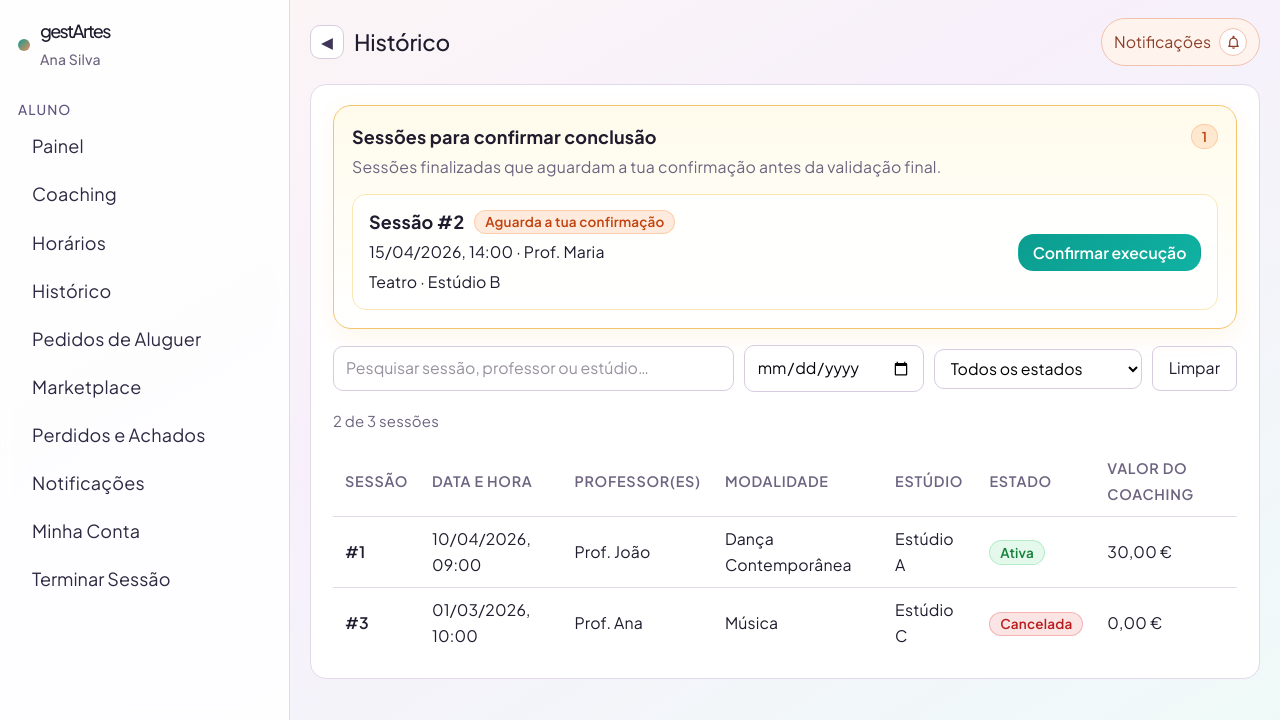
Test case: MyHistoryPage › opens session detail modal on row click
expect the table with test id "history-table" is shown: met, box [333,446,1237,658]
Click the row with test id "history-row-1" at (785, 552), box [333,516,1237,588]
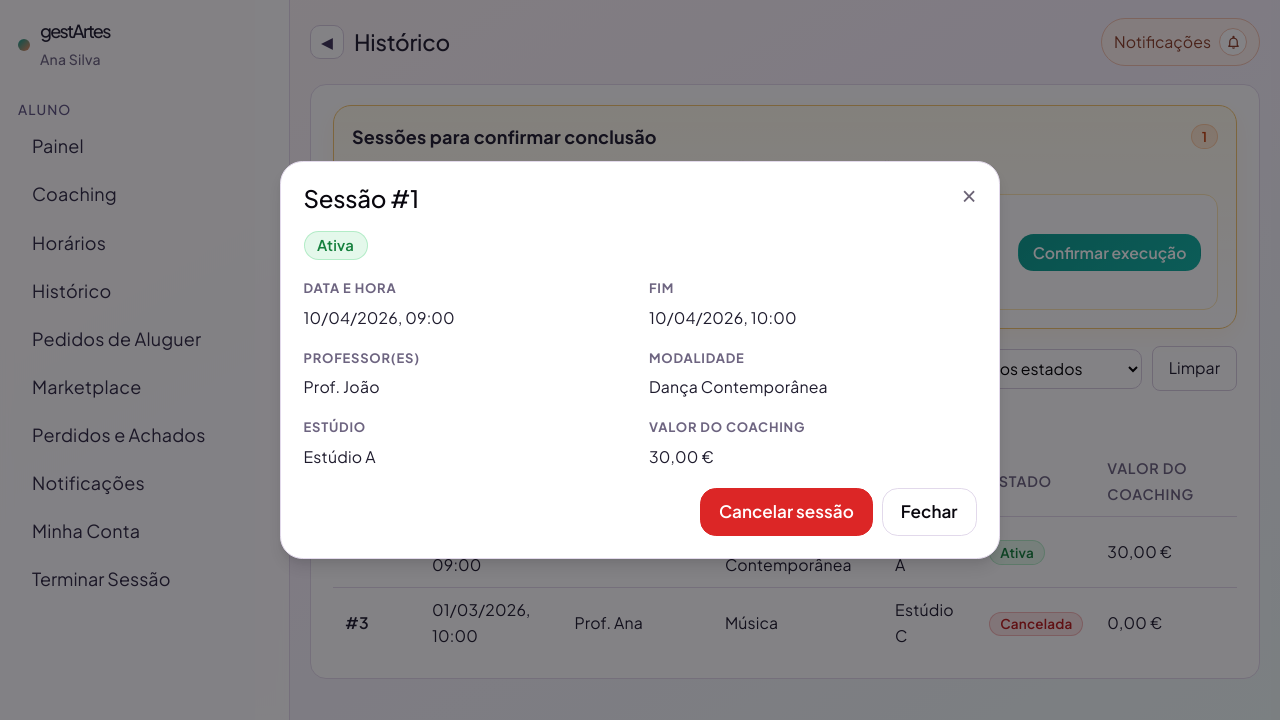
expect the heading "Sessão #1" is shown: met, box [304,184,419,213]
